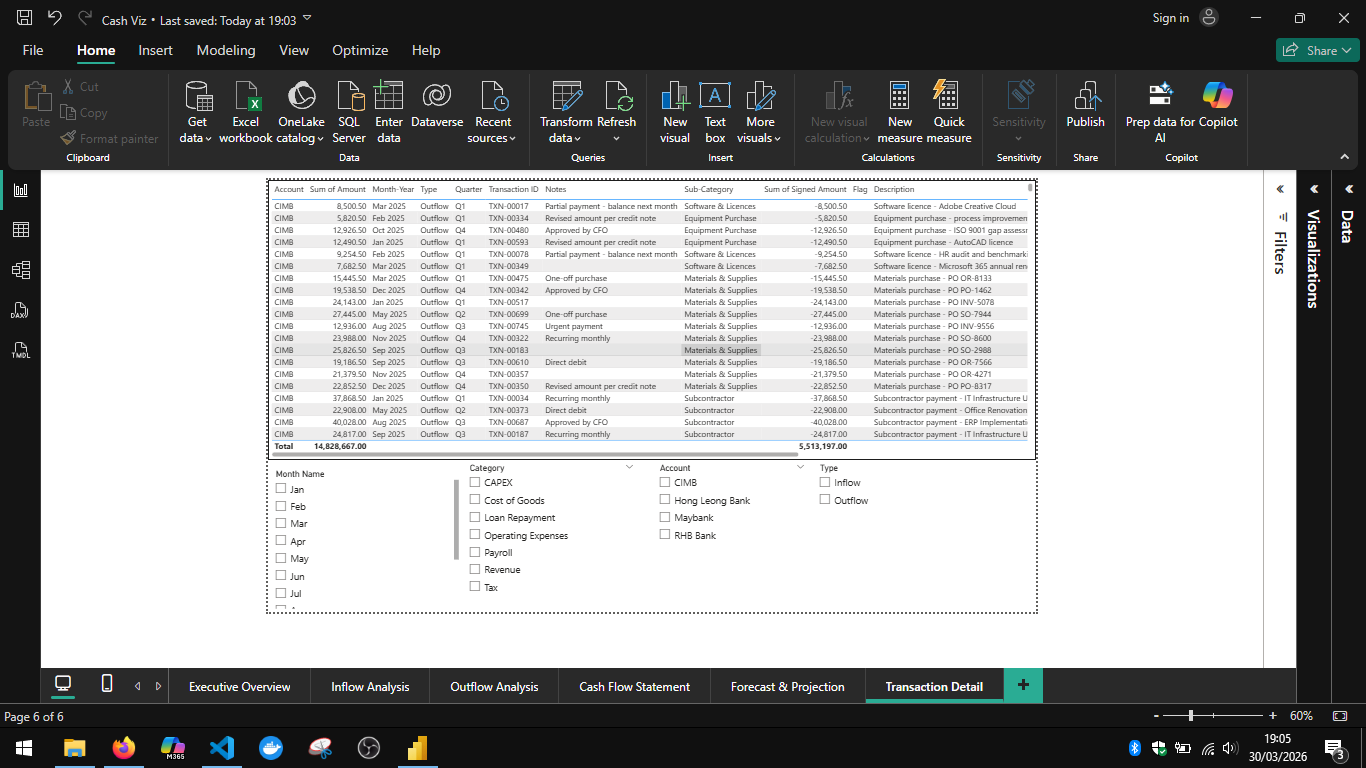

What the dashboard file says about the page in this screenshot:
{"tool":"powerbi","page":{"name":"Transaction Detail","canvas":[1280,720],"ordinal":5},"visuals":[{"type":"tableEx","fields":{"Values":["transactions_sample.Account","Sum(transactions_sample.Amount)","transactions_sample.Month-Year","transactions_sample.Type","transactions_sample.Quarter","transactions_sample.Transaction ID","transactions_sample.Notes","transactions_sample.Sub-Category","Sum(transactions_sample.Signed Amount)","transactions_sample.Flag","transactions_sample.Description","transactions_sample.Counterparty"]},"box":[0,0,1280,466.7],"z":0},{"type":"slicer","fields":{"Values":["DimDate.Month Name"]},"box":[0,476.7,323.3,243.3],"z":1},{"type":"slicer","fields":{"Values":["DimCategory.Category"]},"box":[323.3,466.7,298.3,253.3],"z":2},{"type":"slicer","fields":{"Values":["DimAccount.Account"]},"box":[640,466.7,266.7,253.3],"z":3},{"type":"slicer","fields":{"Values":["transactions_sample.Type"]},"box":[907,467,373,253],"z":4}]}

Visuals, with their boxes on the page's 1280x720 design canvas (x1, y1, x2, y2). These are canvas units, not pixel positions in the 1366x768 screenshot, which may show the page scaled, cropped or inside an application window:
tableEx - transactions_sample.Account x Sum(transactions_sample.Amount): <box>0,0,1280,467</box>
slicer - DimDate.Month Name: <box>0,477,323,720</box>
slicer - DimCategory.Category: <box>323,467,622,720</box>
slicer - DimAccount.Account: <box>640,467,907,720</box>
slicer - transactions_sample.Type: <box>907,467,1280,720</box>
